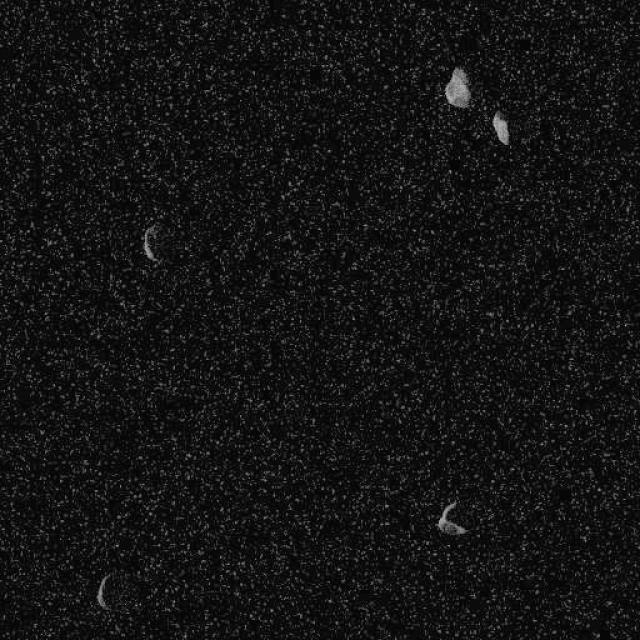D2: (443, 65, 472, 109), (437, 499, 468, 536), (142, 222, 162, 262), (490, 109, 510, 145), (95, 572, 111, 610)
